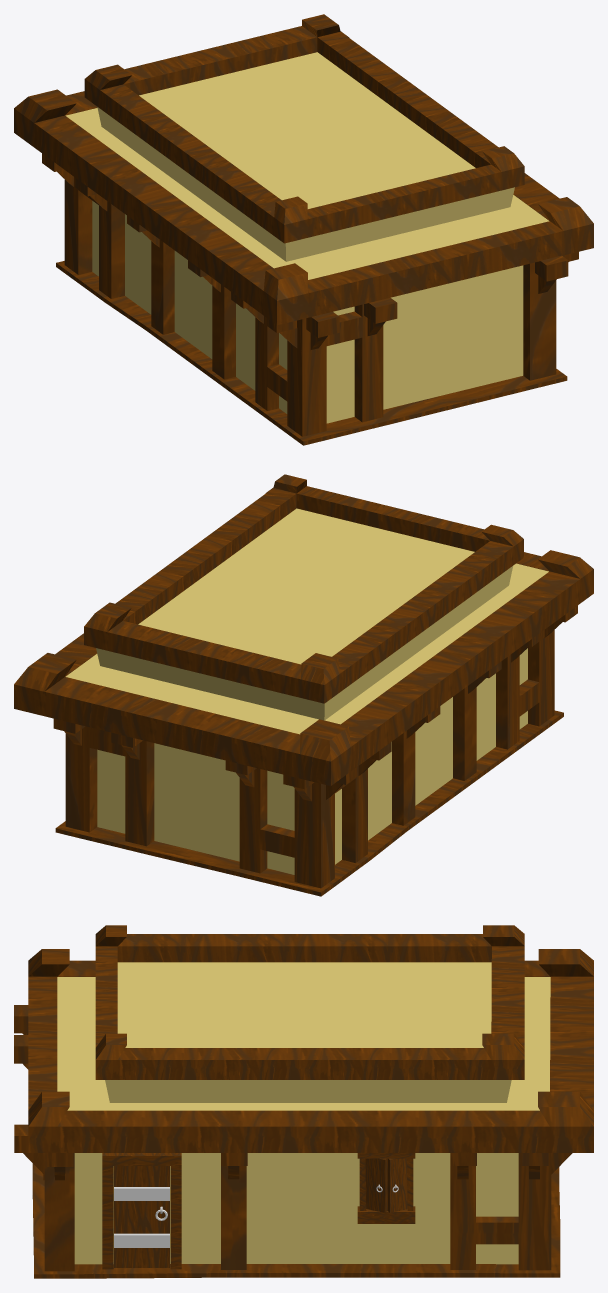
Rendered from SmallHouseMideavel.fbx.
3 views of the same model, one above another, from view 1: azimuth 30°, elevation 25°; view 2: azimuth 150°, elevation 25°; view 3: azimuth 270°, elevation 25° (orthographic). The views are drawn at different scales.
Parts seen in each view (by area): view 1: Cube.009, Cube.014, Cube.010, Cube.011; view 2: Cube.009, Cube.014, Cube.010, Cube.011; view 3: Cube.009, Cube.010, Cube.011, Cube.014, Cube.015, Cube.013, Cube.012, Cube.018, Cube.019, Cube.017, Cube.016.
Boxes of the visible parts, x1,y1,x2,y2 form: Cube.009: [65, 52, 549, 423]; Cube.014: [42, 153, 578, 445]; Cube.010: [14, 31, 593, 325]; Cube.011: [84, 14, 524, 243]; Cube.009: [65, 508, 548, 874]; Cube.014: [53, 605, 577, 896]; Cube.010: [14, 487, 593, 785]; Cube.011: [84, 474, 523, 703]; Cube.009: [57, 962, 550, 1264]; Cube.010: [28, 949, 593, 1152]; Cube.011: [95, 925, 524, 1079]; Cube.014: [14, 1005, 572, 1278]; Cube.015: [114, 1166, 169, 1267]; Cube.013: [102, 1153, 181, 1269]; Cube.012: [357, 1153, 415, 1223]; Cube.018: [365, 1158, 387, 1212]; Cube.019: [387, 1158, 407, 1212]; Cube.017: [114, 1233, 169, 1247]; Cube.016: [114, 1187, 169, 1200].
Size of the model in its own units: 506 by 317 by 746.
